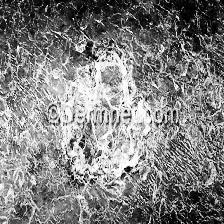Benign Marking or Mole: (62, 57, 154, 176)
